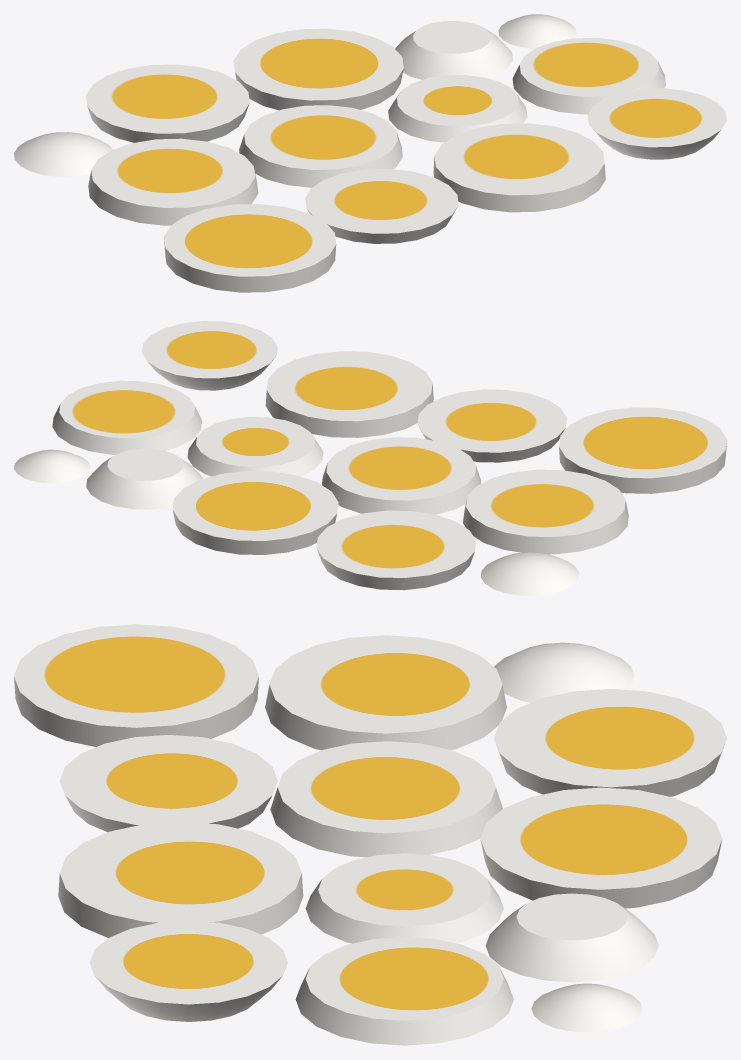
Rendered from Egg.fbx.
The picture shows the model from 3 angles, top to bottom: view 1: azimuth 30°, elevation 25°; view 2: azimuth 150°, elevation 25°; view 3: azimuth 270°, elevation 25°; orthographic projection. The views are drawn at different scales.
Visible parts, largest first — view 1: Eggs; view 2: Eggs; view 3: Eggs.
Boxes of the visible parts, x1,y1,x2,y2 form: Eggs: (14,14,726,292); Eggs: (14,321,726,595); Eggs: (14,624,726,1045).
Bounding box in the file's own units: 18.07 × 0.6709 × 13.61.
